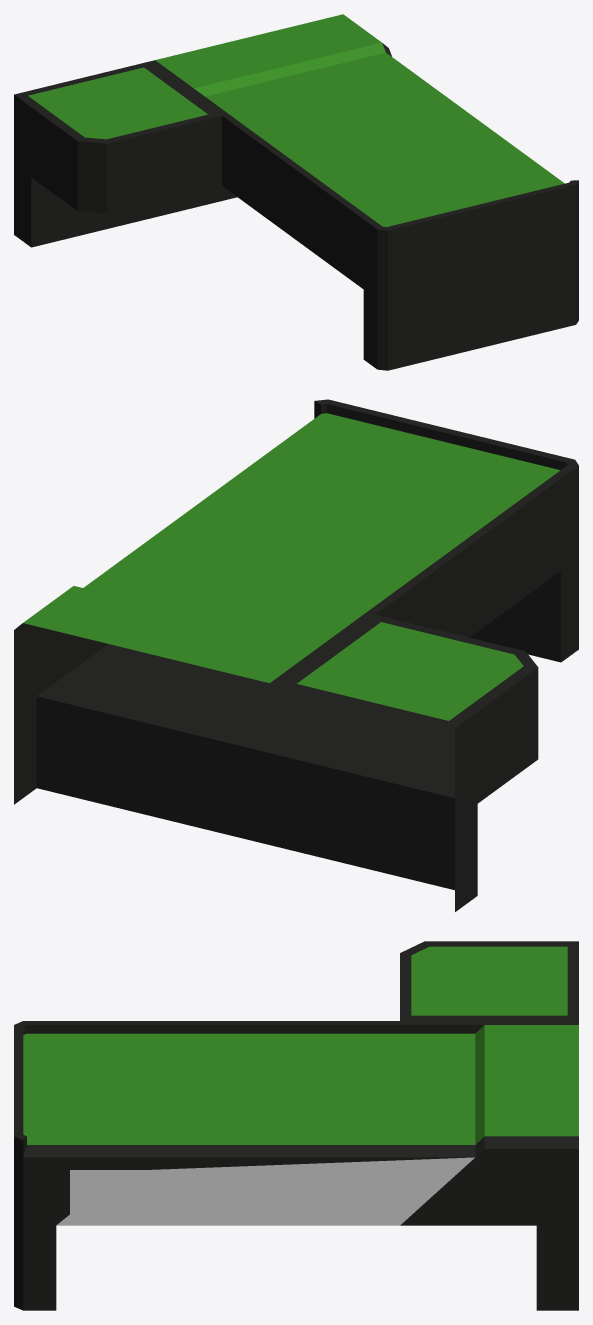
The model's file is Medical_Bunk.fbx.
3 views of the same model, one above another, from view 1: azimuth 30°, elevation 25°; view 2: azimuth 150°, elevation 25°; view 3: azimuth 270°, elevation 25° (orthographic). The views are drawn at different scales.
Visible parts, largest first — view 1: Bunk; view 2: Bunk; view 3: Bunk.
Boxes of the visible parts, box(x1,y1,x2,y2) form: Bunk: box(14, 14, 578, 370); Bunk: box(14, 399, 578, 911); Bunk: box(14, 941, 578, 1310).
Bounding box in the file's own units: 2.5 × 3 × 0.9975.
